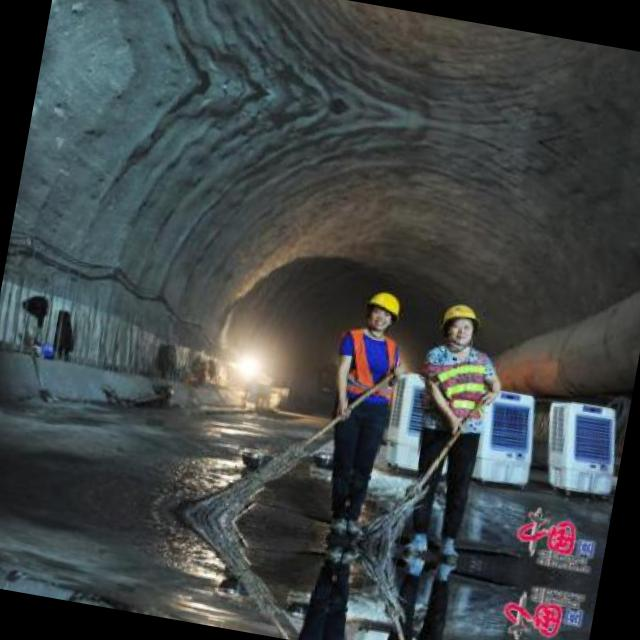helmet: (433, 294, 484, 352), (360, 284, 405, 336)
